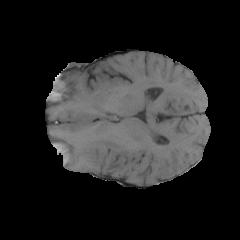glioma: (82, 138, 128, 173)
